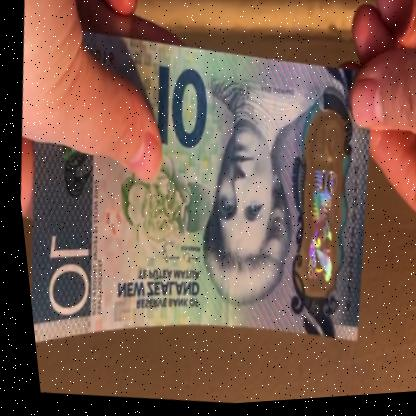10B: (282, 125, 349, 296)
